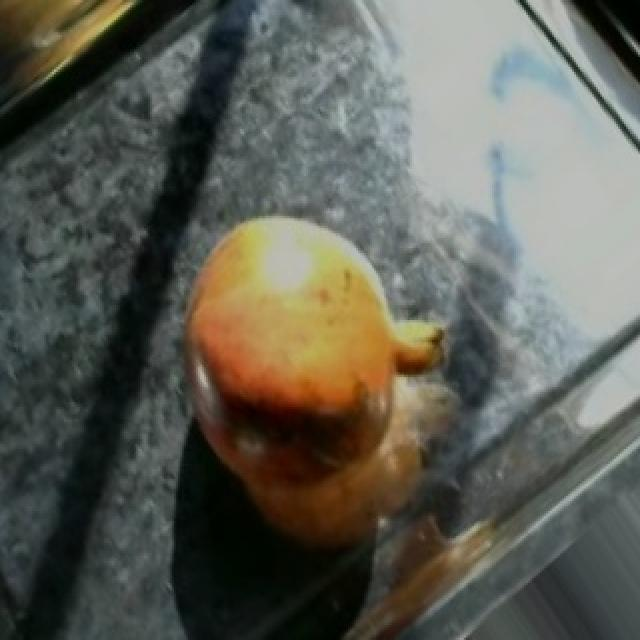fruit: (142, 179, 418, 439)
